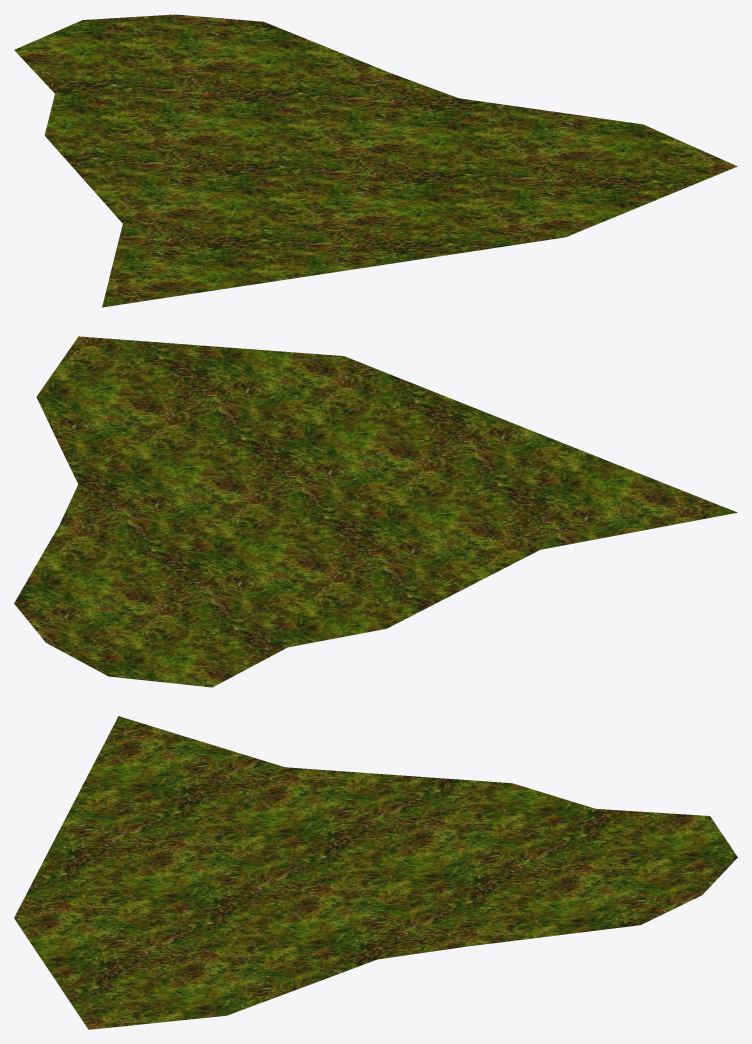
File: TROLLHOLE02_RM_PSURF248.fbx
The picture shows the model from 3 angles, top to bottom: view 1: azimuth 30°, elevation 25°; view 2: azimuth 150°, elevation 25°; view 3: azimuth 270°, elevation 25°; orthographic projection. The views are drawn at different scales.
Parts seen in each view (by area): view 1: TROLLHOLE02_RM_PSURF248; view 2: TROLLHOLE02_RM_PSURF248; view 3: TROLLHOLE02_RM_PSURF248.
Part boxes in pixels (left/top/right/bottom): TROLLHOLE02_RM_PSURF248: left=14, top=14, right=737, bottom=307; TROLLHOLE02_RM_PSURF248: left=14, top=336, right=737, bottom=687; TROLLHOLE02_RM_PSURF248: left=14, top=716, right=737, bottom=1029.
Bounding box in the file's own units: 72052 × 704 × 70255.
1 material, 1 textured.
